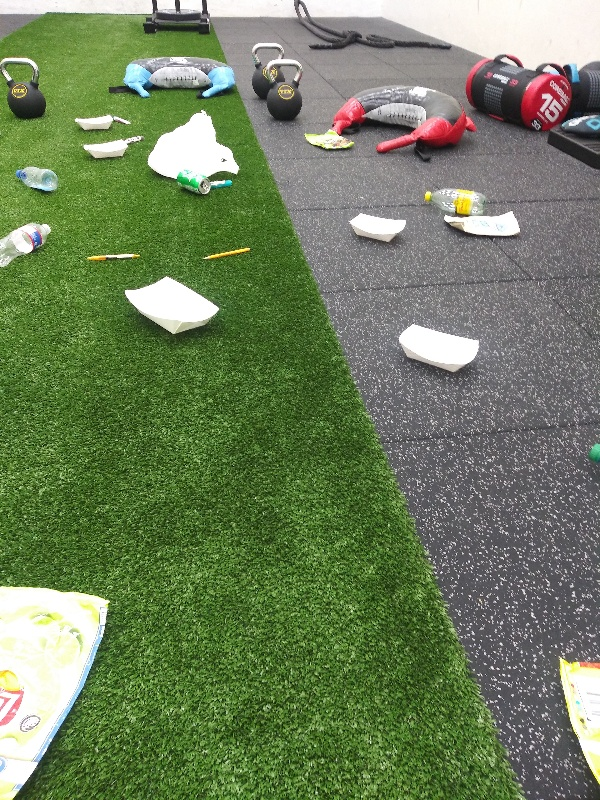bag: (2, 582, 114, 800), (553, 652, 600, 799), (442, 209, 524, 240), (301, 127, 356, 155)
bottle: (1, 216, 55, 272), (419, 187, 491, 216), (10, 163, 58, 194)
can: (170, 172, 215, 197)
plate: (120, 273, 222, 339), (393, 320, 487, 373), (343, 208, 411, 247), (77, 135, 132, 160), (70, 113, 117, 132)
